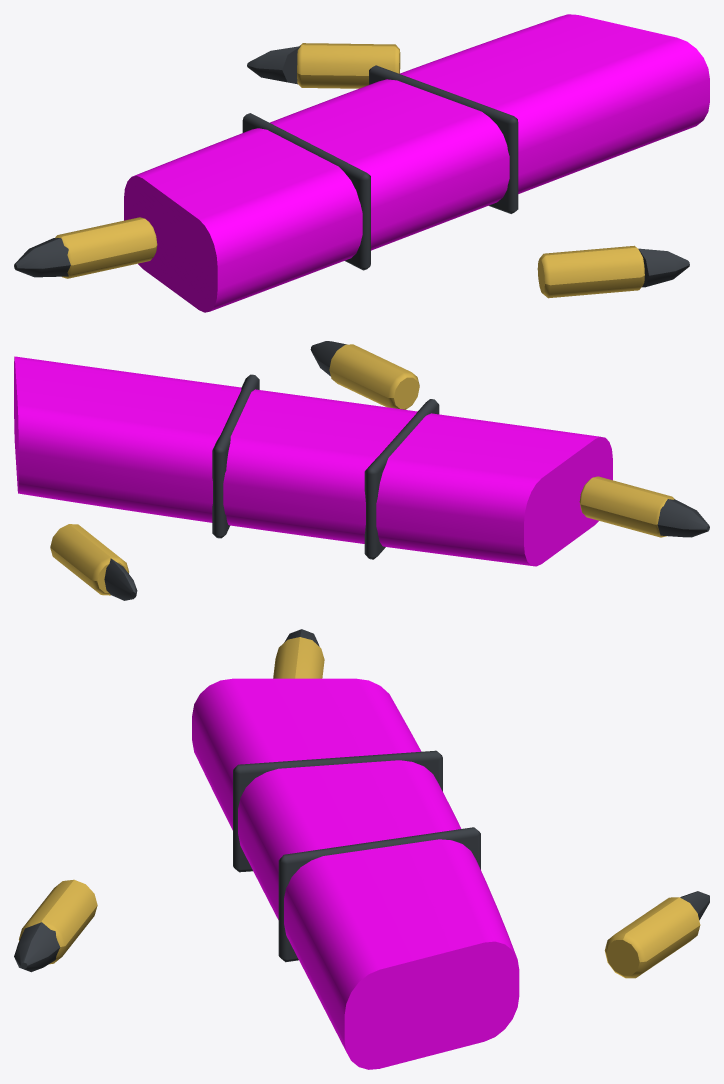
Rendered from objet_chargeur_fusil.glb.
3 renders of one model, top to bottom at view 1: azimuth 30°, elevation 25°; view 2: azimuth 150°, elevation 25°; view 3: azimuth 270°, elevation 25°, orthographic. The views are drawn at different scales.
Visible parts, largest first — view 1: chargeur_teinte.006, chargeur_laiton.006, chargeur_teinte_sombre.006; view 2: chargeur_teinte.006, chargeur_laiton.006, chargeur_teinte_sombre.006; view 3: chargeur_teinte.006, chargeur_laiton.006, chargeur_teinte_sombre.006.
Boxes of the visible parts, x1,y1,x2,y2 form: chargeur_teinte.006: (124,14,709,312); chargeur_laiton.006: (55,43,644,298); chargeur_teinte_sombre.006: (14,46,689,287); chargeur_teinte.006: (14,356,612,566); chargeur_laiton.006: (50,344,674,595); chargeur_teinte_sombre.006: (104,341,709,600); chargeur_teinte.006: (192,678,519,1069); chargeur_laiton.006: (19,637,700,978); chargeur_teinte_sombre.006: (14,629,709,972).
Size of the model in its own units: 0.3295 by 0.0425 by 0.2544.
